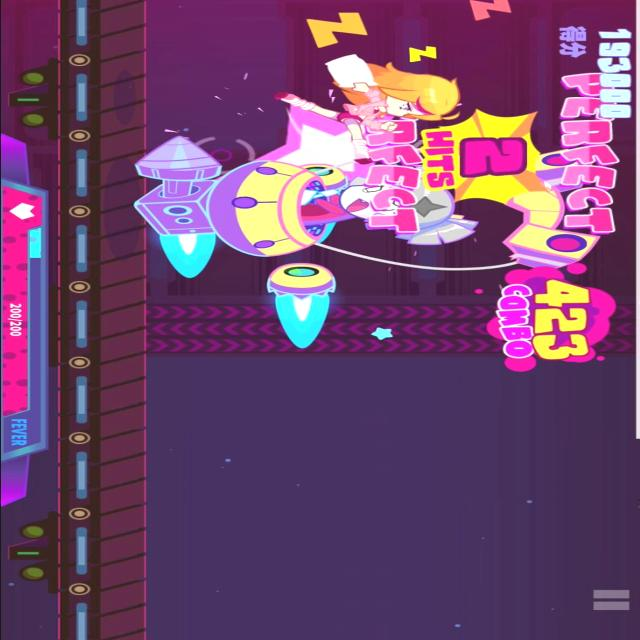qiangboss: (132, 120, 588, 350)
